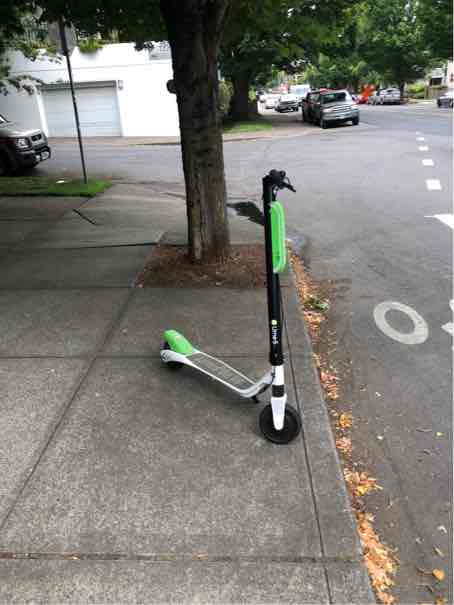scooter: (140, 150, 301, 448)
